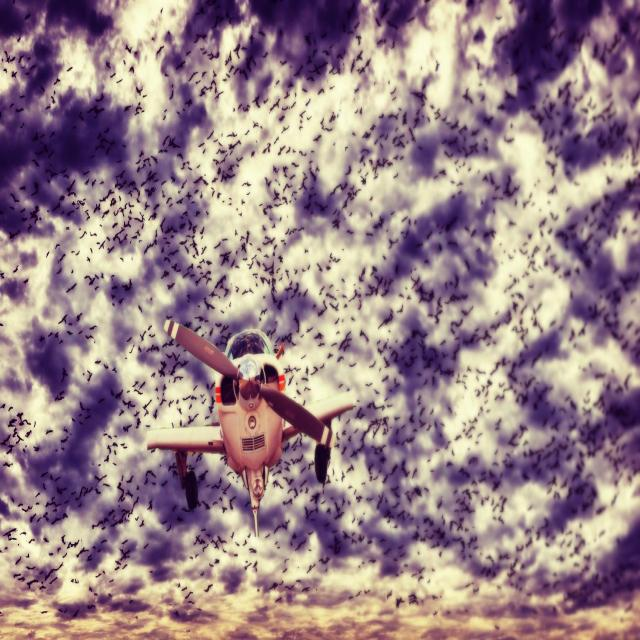airplane: (146, 314, 357, 538)
